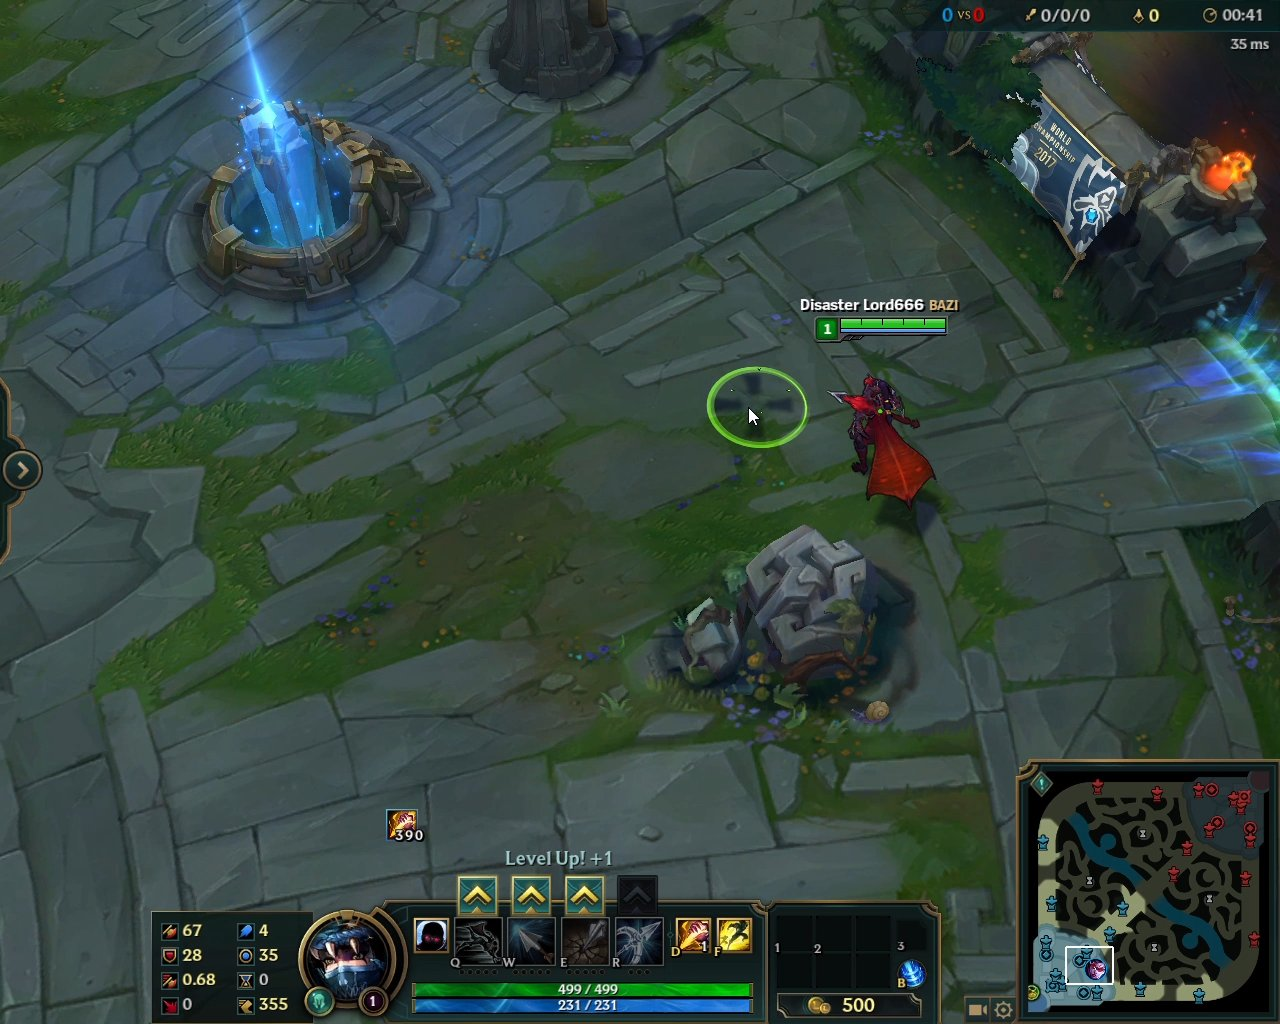Vayne: (820, 372, 942, 515)
